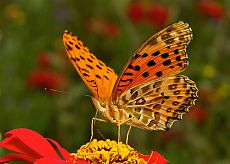Argyreus hyperbius: (40, 16, 199, 146)
butterfly: (42, 18, 201, 148)
